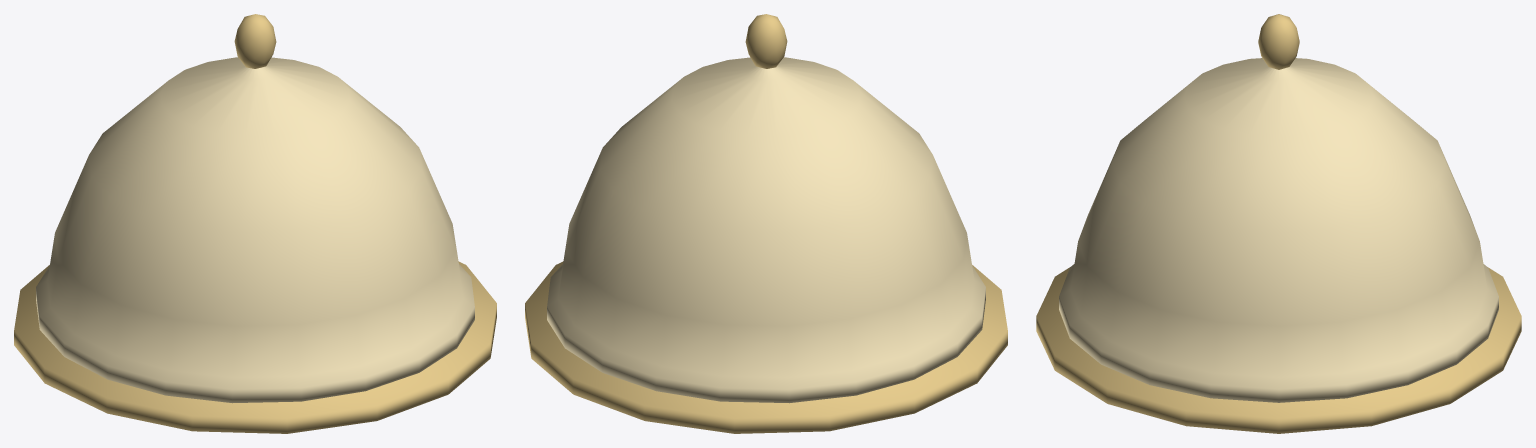
Rendered from hospitality-cloche.glb.
3 views of the same model, side by side, from view 1: azimuth 30°, elevation 25°; view 2: azimuth 150°, elevation 25°; view 3: azimuth 270°, elevation 25° (orthographic).
Parts seen in each view (by area): view 1: dome-0, tray-2, handle-1; view 2: dome-0, tray-2, handle-1; view 3: dome-0, tray-2, handle-1.
Part boxes in pixels (x1,y1,x2,y2): dome-0: (36,57,474,403); tray-2: (14,261,496,433); handle-1: (234,14,276,68); dome-0: (547,57,985,403); tray-2: (525,261,1007,433); handle-1: (745,14,787,68); dome-0: (1059,58,1498,402); tray-2: (1036,267,1521,433); handle-1: (1258,14,1299,69).
Size of the model in its own units: 1.28 by 0.9225 by 1.28.
